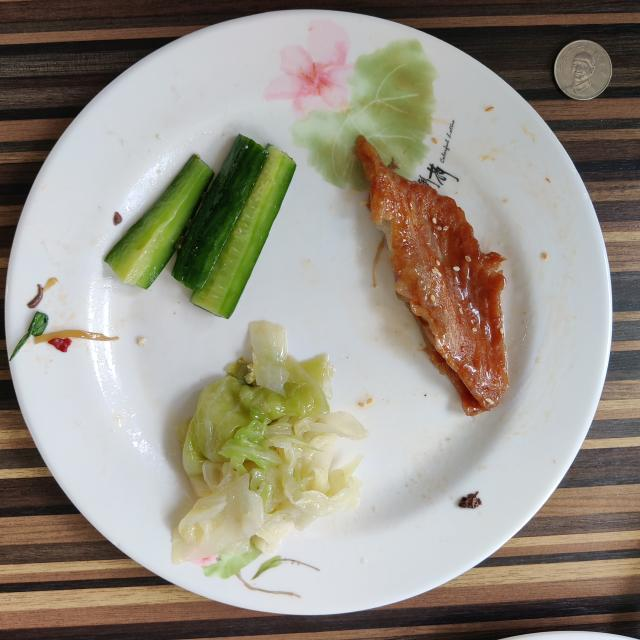Kabayaki sea bream fillet: (355, 136, 509, 415)
cabbage: (172, 322, 368, 564)
coin: (554, 40, 611, 100)
cucumber: (105, 135, 296, 318)
